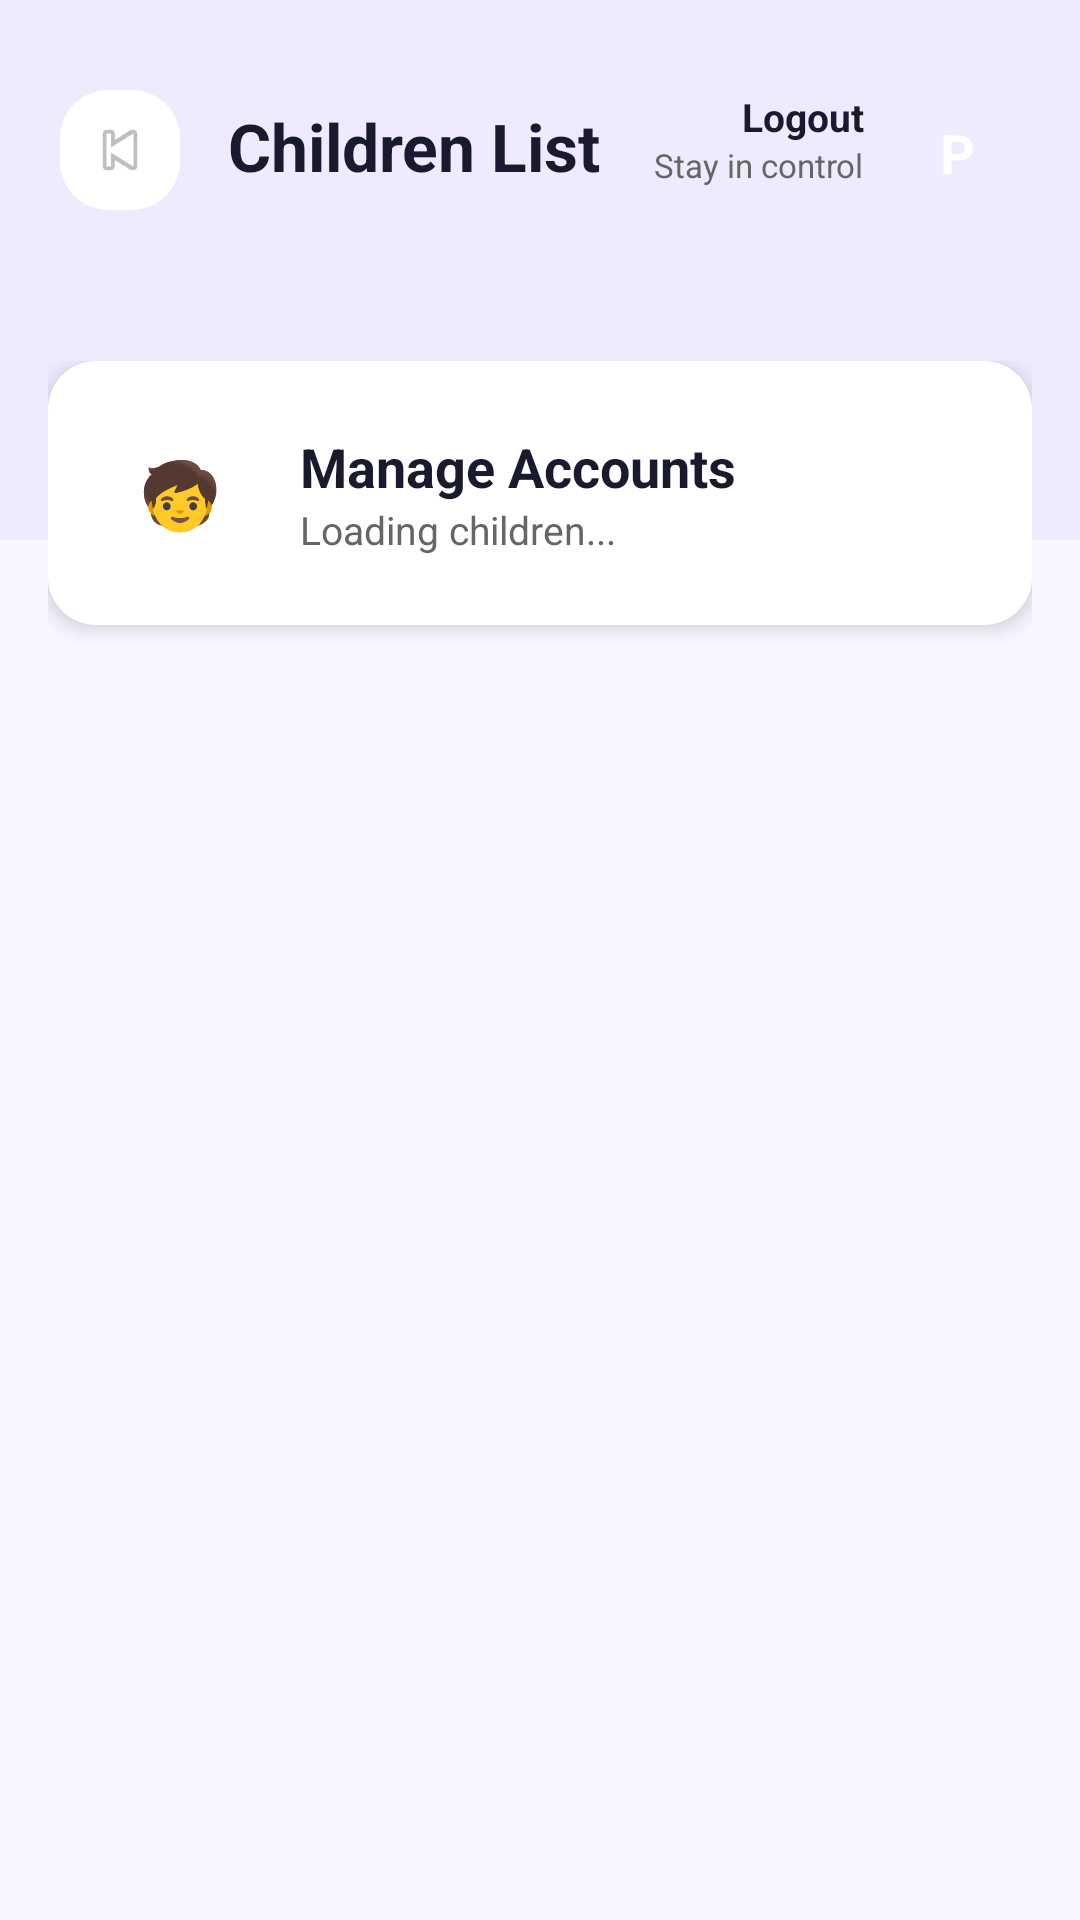

Where to tap for icons on this 1080×1920 app screen, as [x,y]:
Back: [120,150]
